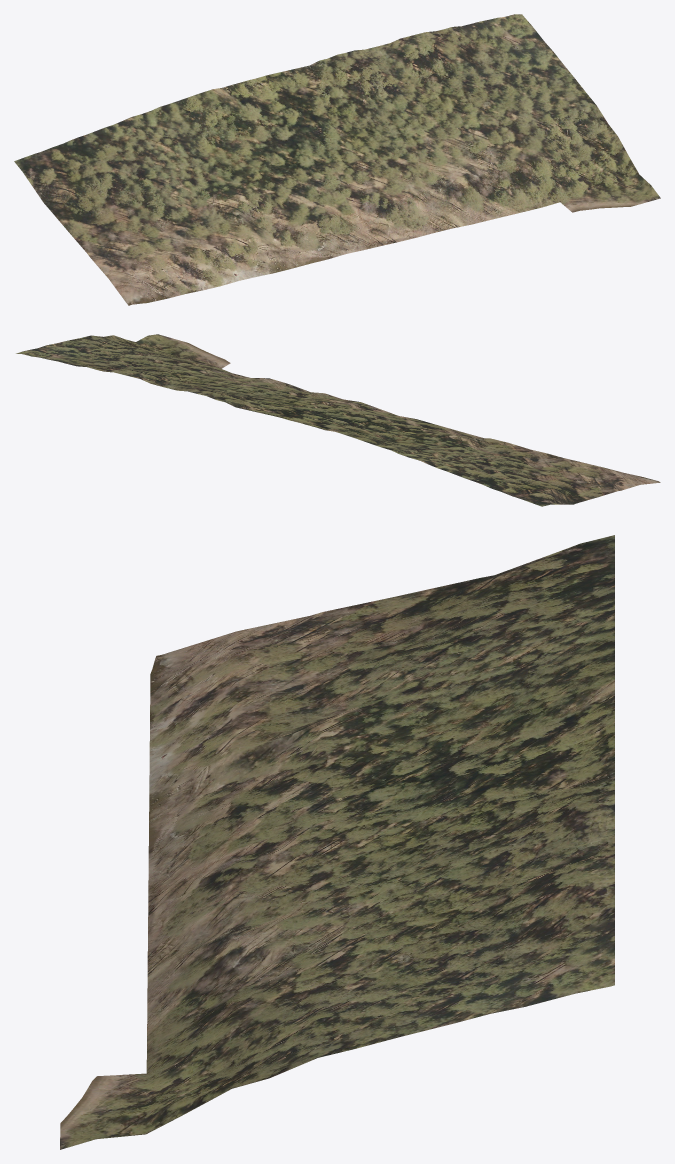
The model's file is CM_Terrain_24486158_6820204.fbx.
3 views of the same model, one above another, from view 1: azimuth 30°, elevation 25°; view 2: azimuth 150°, elevation 25°; view 3: azimuth 270°, elevation 25° (orthographic). The views are drawn at different scales.
Parts seen in each view (by area): view 1: CM_Terrain_24486158_6820204_LOD0; view 2: CM_Terrain_24486158_6820204_LOD0; view 3: CM_Terrain_24486158_6820204_LOD0.
Part boxes in pixels (box(x1,y1,x2,y2)): CM_Terrain_24486158_6820204_LOD0: box(14, 14, 660, 305); CM_Terrain_24486158_6820204_LOD0: box(16, 334, 660, 506); CM_Terrain_24486158_6820204_LOD0: box(60, 535, 614, 1149).
Size of what is drawn, in the model's own units: 205 by 34.85 by 96.82.
